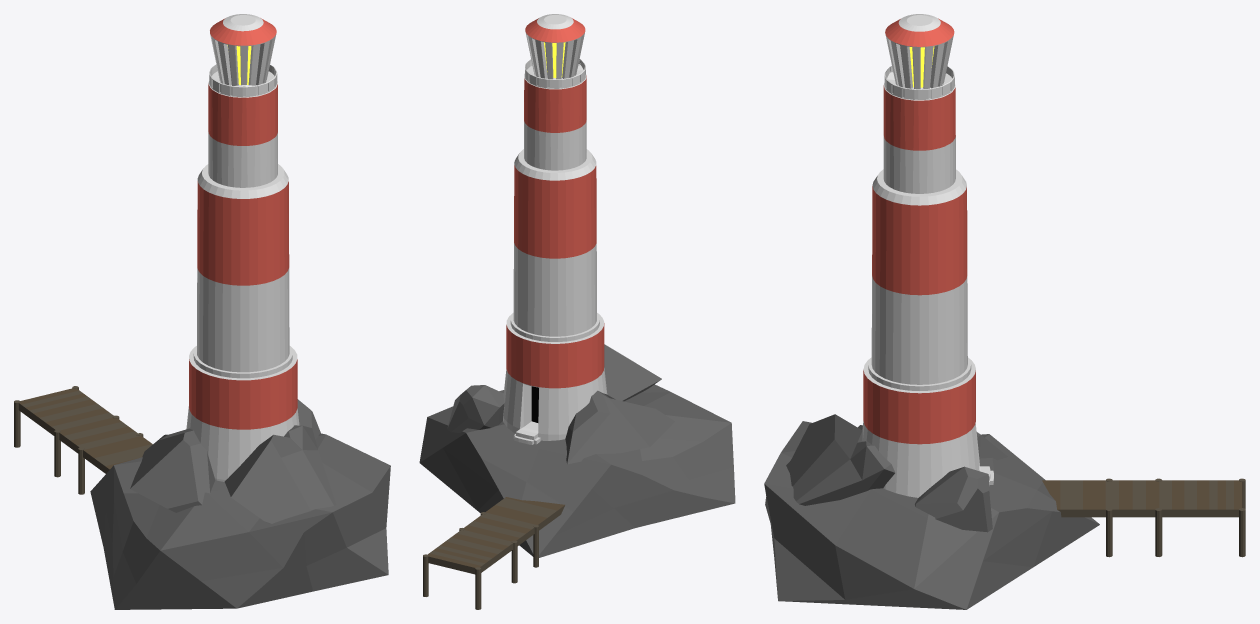
File: lighthouse.glb
3 renders of one model, left to right at view 1: azimuth 30°, elevation 25°; view 2: azimuth 150°, elevation 25°; view 3: azimuth 270°, elevation 25°, orthographic. The views are drawn at different scales.
Visible parts, largest first — view 1: Latarnia, Dużykamień, Kamien3, Pomocst, Kamien2; view 2: Latarnia, Dużykamień, Pomocst, Kamien2, Kamien1, Kamien3; view 3: Latarnia, Dużykamień, Pomocst, Kamien3, Kamien1.
Part boxes in pixels (bbox=[...]): Latarnia: bbox=[186, 14, 299, 481]; Dużykamień: bbox=[90, 433, 390, 609]; Kamien3: bbox=[224, 425, 336, 523]; Pomocst: bbox=[14, 386, 152, 494]; Kamien2: bbox=[130, 428, 215, 512]; Latarnia: bbox=[503, 14, 607, 444]; Dużykamień: bbox=[419, 384, 735, 557]; Pomocst: bbox=[423, 497, 564, 609]; Kamien2: bbox=[565, 390, 674, 464]; Kamien1: bbox=[447, 385, 504, 432]; Kamien3: bbox=[604, 344, 661, 401]; Latarnia: bbox=[862, 14, 993, 497]; Dużykamień: bbox=[764, 421, 1099, 609]; Pomocst: bbox=[1042, 478, 1245, 557]; Kamien3: bbox=[786, 414, 895, 505]; Kamien1: bbox=[915, 466, 992, 532].
Size of the model in its own units: 18.56 by 30.13 by 24.19.
